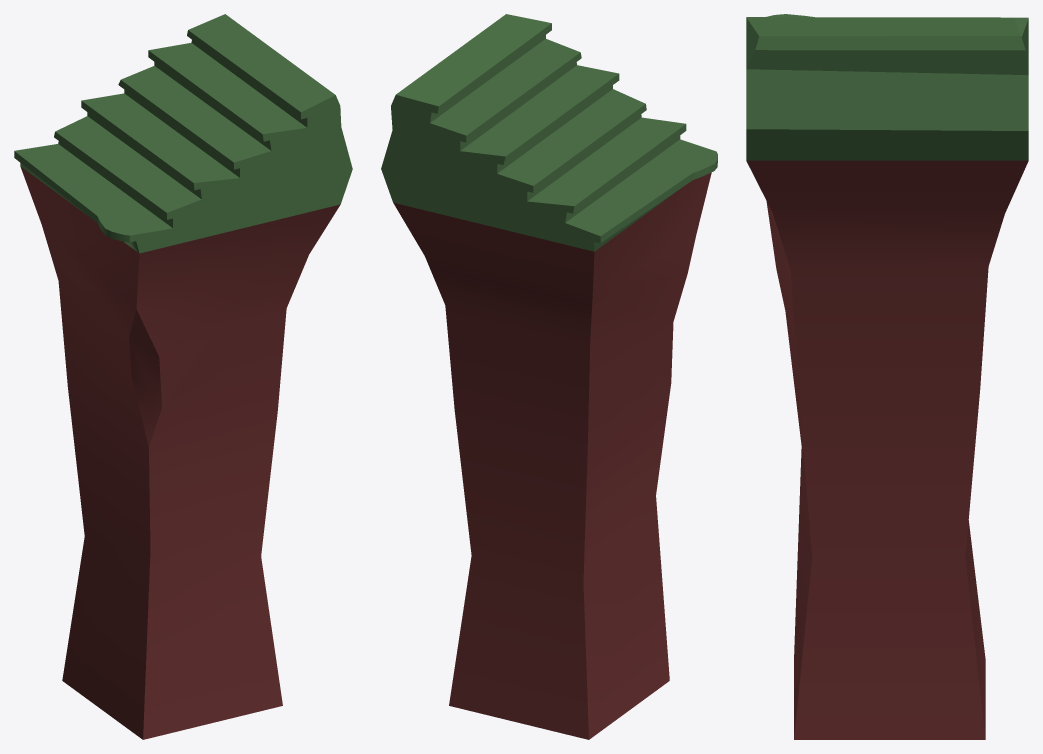
File: mesh_muroescalera1.fbx
The picture shows the model from 3 angles, left to right: view 1: azimuth 30°, elevation 25°; view 2: azimuth 150°, elevation 25°; view 3: azimuth 270°, elevation 25°; orthographic projection. The views are drawn at different scales.
Visible parts, largest first — view 1: mesh_muroescalera1; view 2: mesh_muroescalera1; view 3: mesh_muroescalera1.
Part boxes in pixels (box(x1,y1,x2,y2)): mesh_muroescalera1: box(14, 14, 352, 739); mesh_muroescalera1: box(381, 14, 717, 739); mesh_muroescalera1: box(746, 14, 1028, 739).
Bounding box in the file's own units: 1935 × 4908 × 1732.
